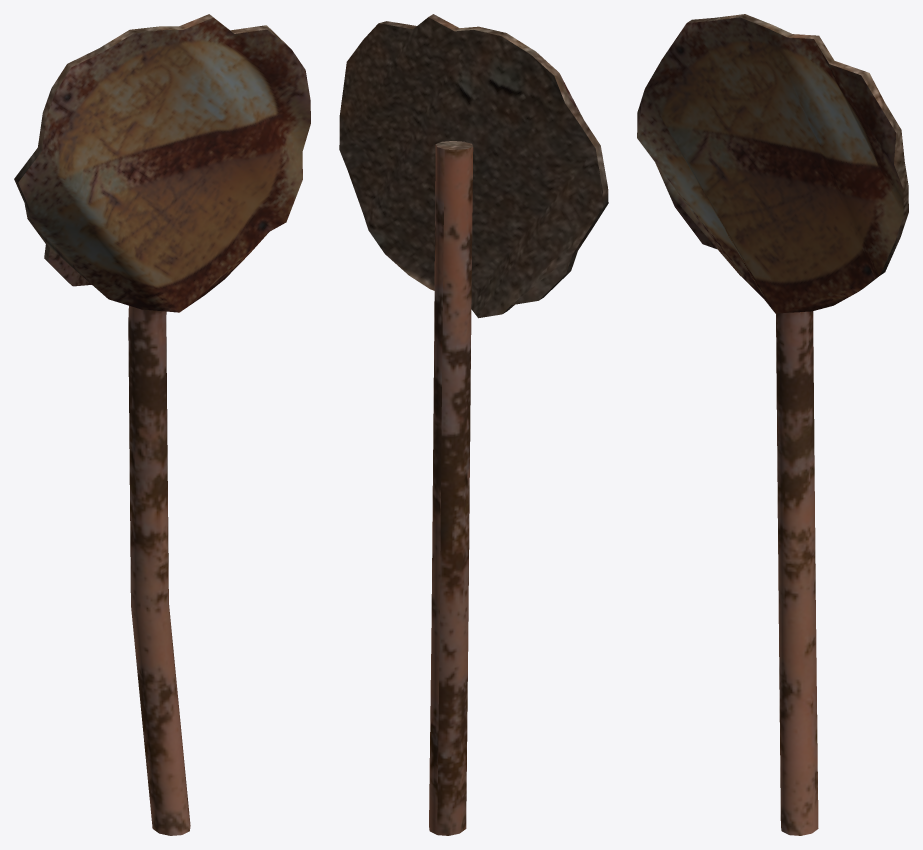
File: prop_traffic_light_placa2.glb
3 views of the same model, side by side, from view 1: azimuth 30°, elevation 25°; view 2: azimuth 150°, elevation 25°; view 3: azimuth 330°, elevation 25° (orthographic).
Parts seen in each view (by area): view 1: prop_traffic_light_placa2_mesh; view 2: prop_traffic_light_placa2_mesh; view 3: prop_traffic_light_placa2_mesh.
Boxes of the visible parts, x1,y1,x2,y2 form: prop_traffic_light_placa2_mesh: (14,14,310,835); prop_traffic_light_placa2_mesh: (339,14,608,835); prop_traffic_light_placa2_mesh: (637,14,908,835).
Size of the model in its own units: 1.01 by 2.8 by 0.2621.
Materials: 1 (1 with a texture image).
